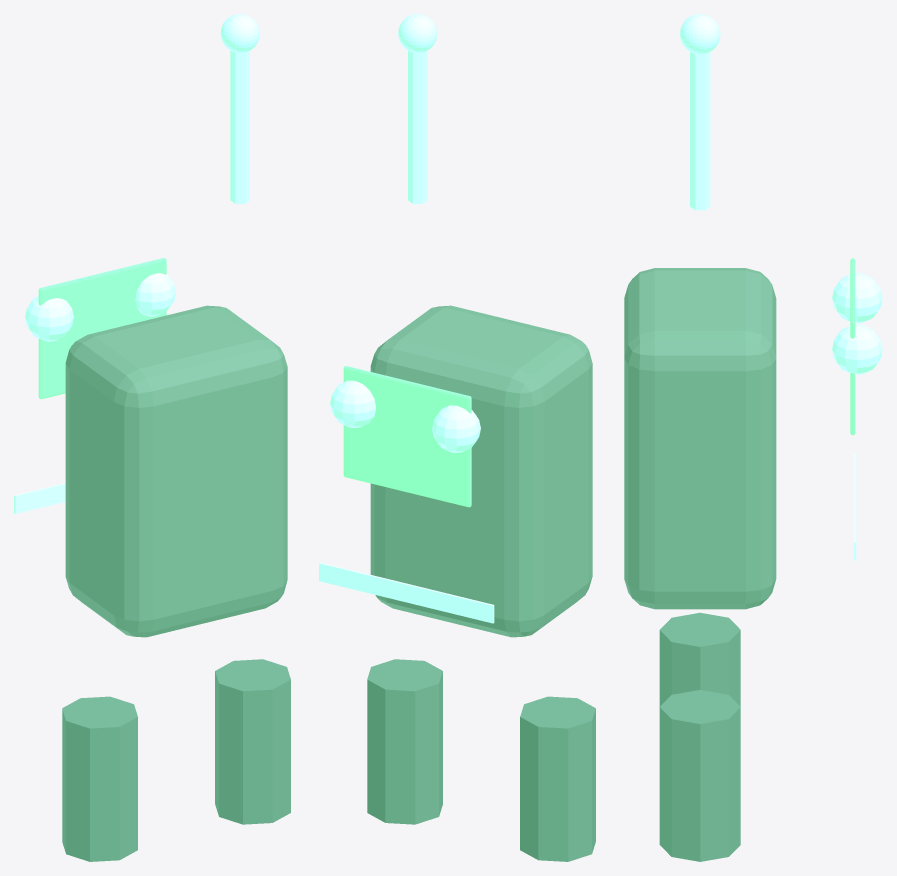
The model's file is man_page.glb.
3 renders of one model, left to right at view 1: azimuth 30°, elevation 25°; view 2: azimuth 150°, elevation 25°; view 3: azimuth 270°, elevation 25°, orthographic. The views are drawn at different scales.
Parts seen in each view (by area): view 1: man_page; view 2: man_page; view 3: man_page.
Part boxes in pixels (x1=…): man_page: x1=14, y1=14, x2=290, y2=861; man_page: x1=319, y1=14, x2=595, y2=861; man_page: x1=624, y1=14, x2=882, y2=861.
Bounding box in the file's own units: 0.52 × 1.79 × 0.51.
